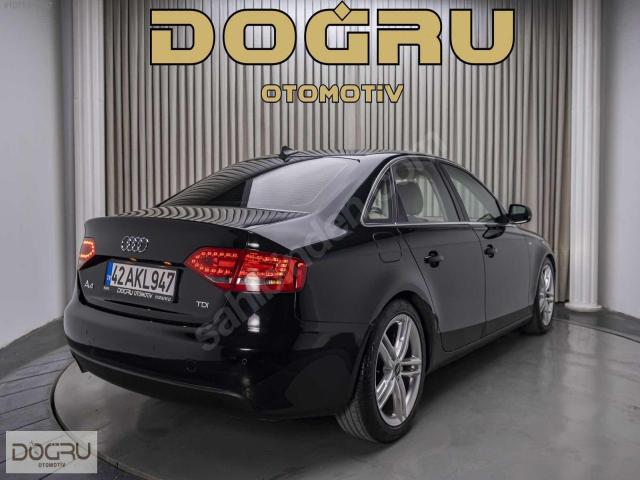plaka: (104, 263, 177, 302)
